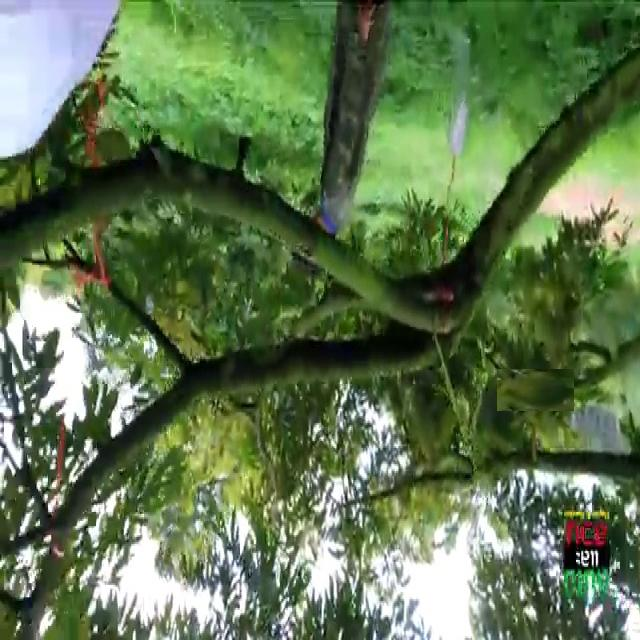durian: (506, 360, 566, 420)
